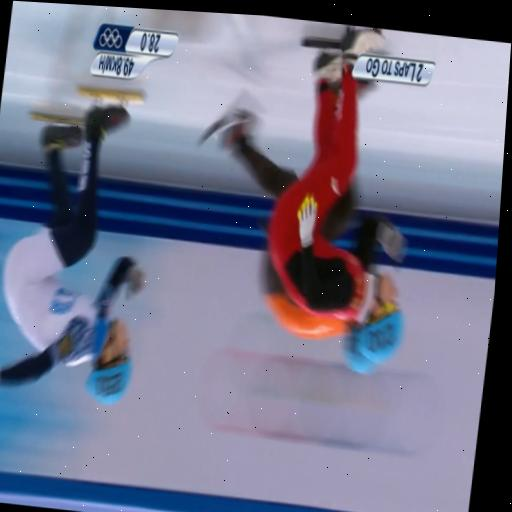Skater: (267, 28, 402, 362), (0, 104, 143, 403), (260, 249, 375, 373)
